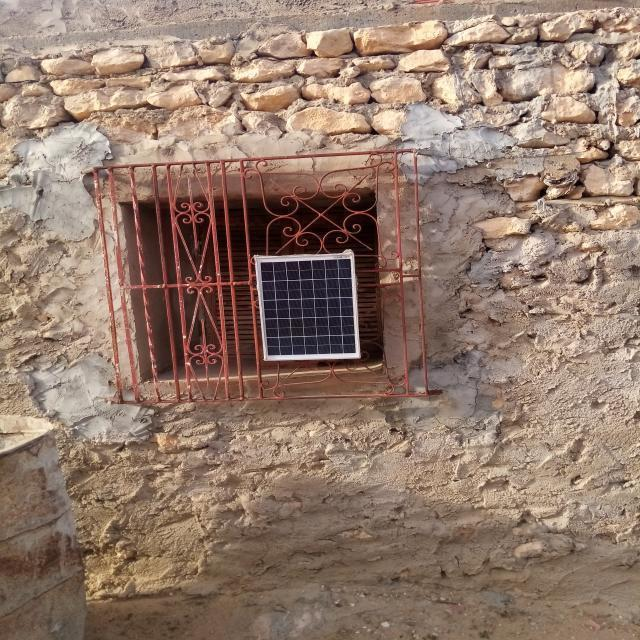Normal Solar Panel: (256, 254, 361, 361)
